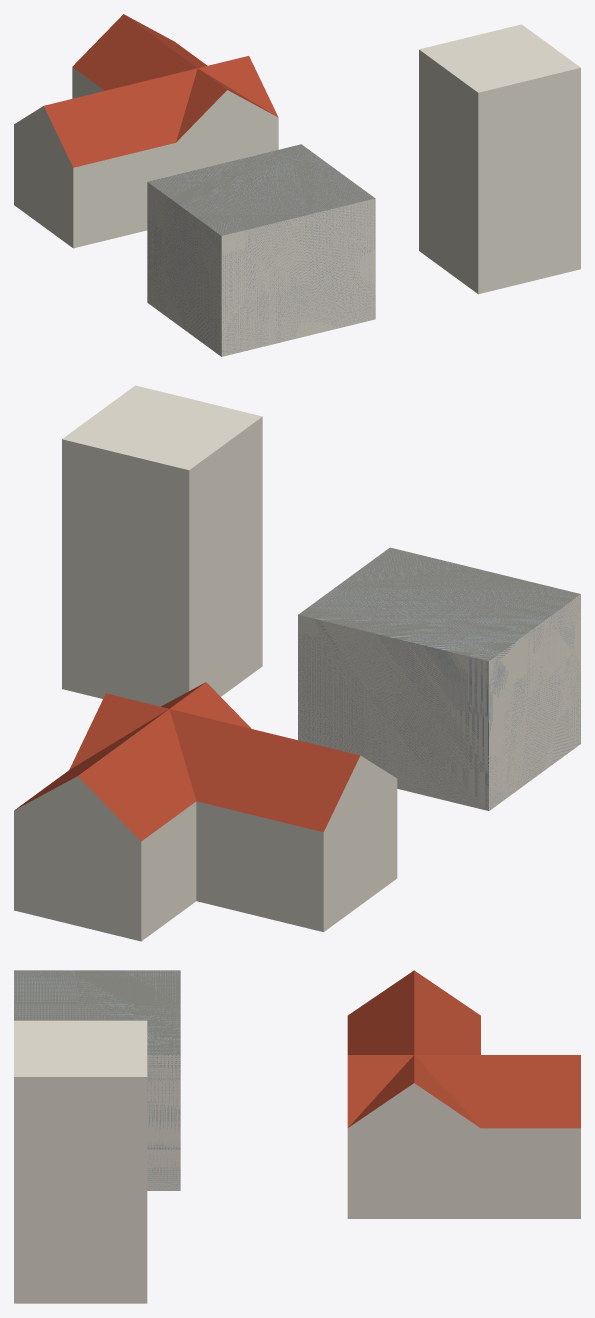
Rendered from volumenes.dae.
3 renders of one model, top to bottom at view 1: azimuth 30°, elevation 25°; view 2: azimuth 150°, elevation 25°; view 3: azimuth 270°, elevation 25°, orthographic. The views are drawn at different scales.
Visible parts, largest first — view 1: bloque_a, torre_b, casa_l; view 2: casa_l, torre_b, bloque_a; view 3: casa_l, torre_b, bloque_a.
Part boxes in pixels (x1,y1,x2,y2): bloque_a: [147, 144, 375, 356]; torre_b: [419, 24, 580, 294]; casa_l: [14, 14, 278, 248]; casa_l: [14, 682, 397, 941]; torre_b: [62, 385, 262, 706]; bloque_a: [298, 547, 580, 810]; casa_l: [347, 970, 580, 1218]; torre_b: [14, 1020, 147, 1303]; bloque_a: [14, 970, 180, 1190].
Size of the model in its own units: 1102 by 1339 by 591.
